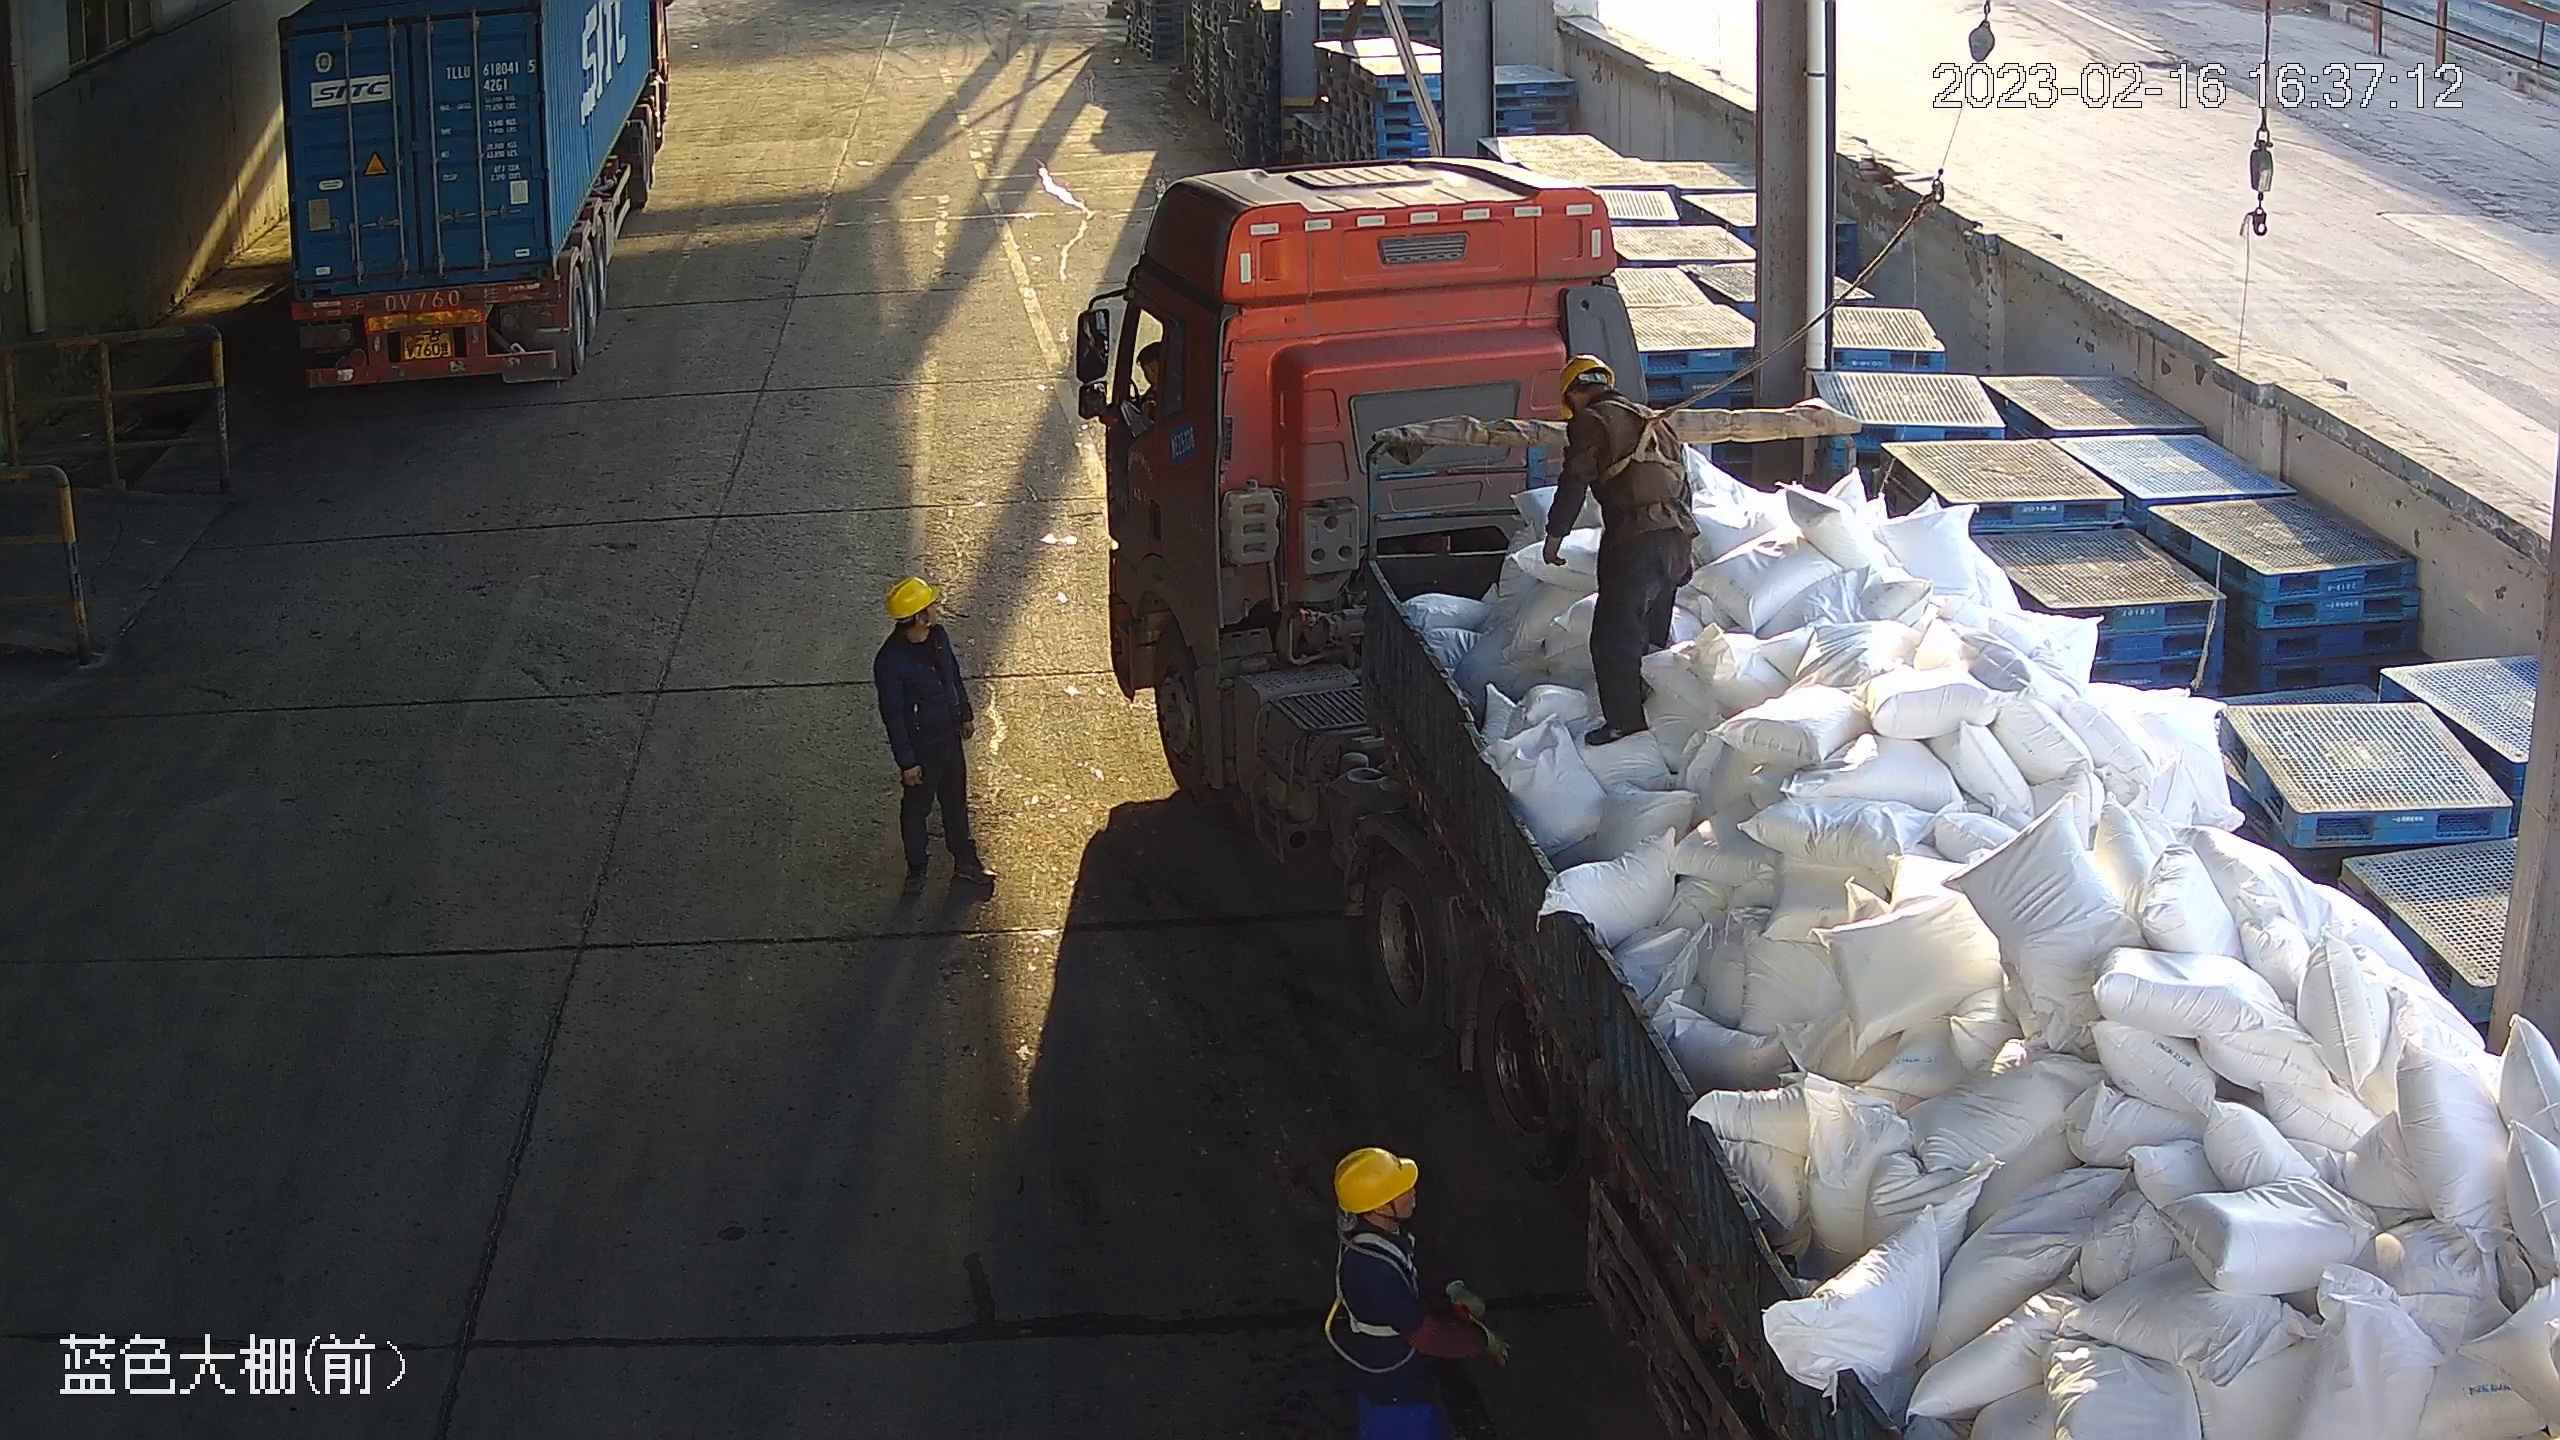belt: (1322, 1228, 1422, 1374), (1588, 397, 1694, 486)
head: (1560, 355, 1681, 462), (1331, 1146, 1419, 1289), (872, 575, 963, 681)
helmet: (1331, 1145, 1418, 1213), (1560, 354, 1616, 420), (883, 576, 941, 619)
people: (1541, 353, 1702, 745), (1322, 1145, 1512, 1440), (872, 575, 999, 895)
truck: (1070, 154, 2560, 1440), (278, 3, 678, 393)
